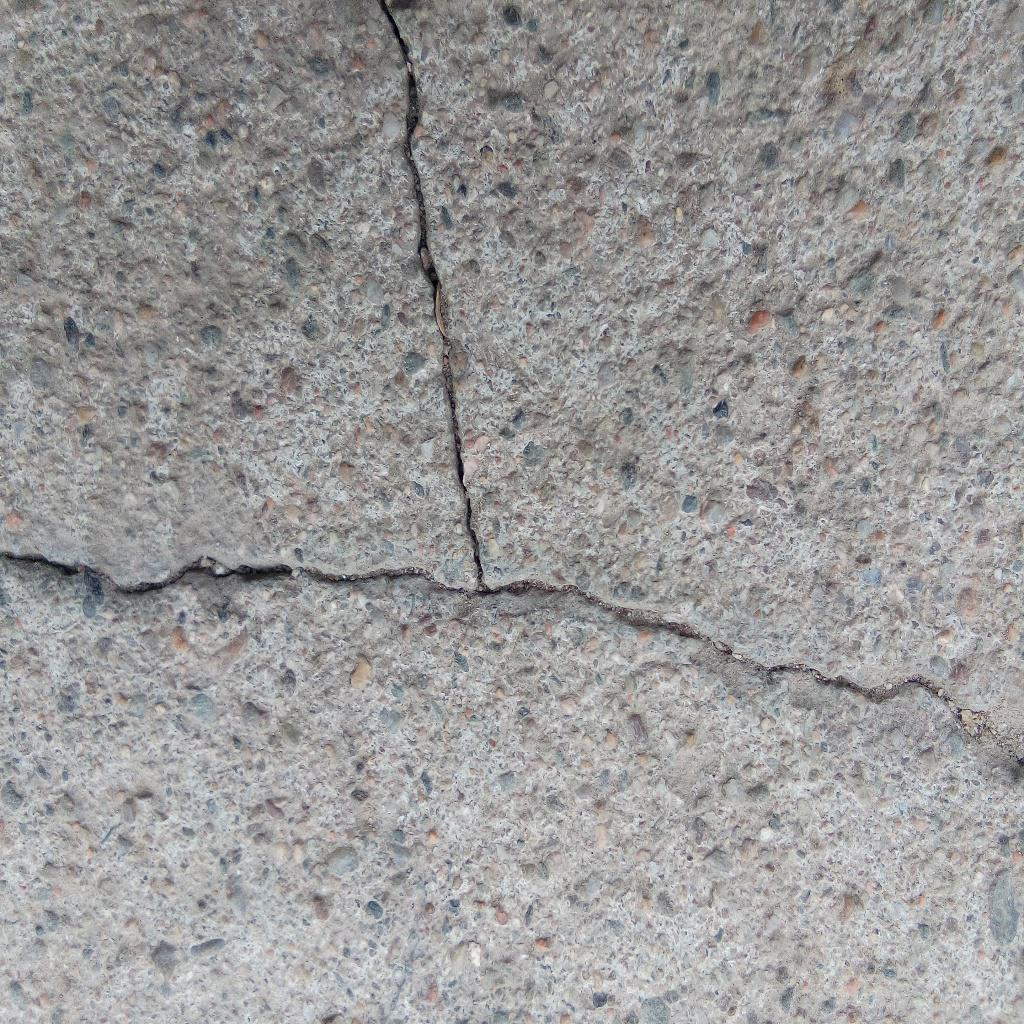Crack: (379, 1, 485, 588), (486, 579, 950, 711), (1, 550, 485, 595)
